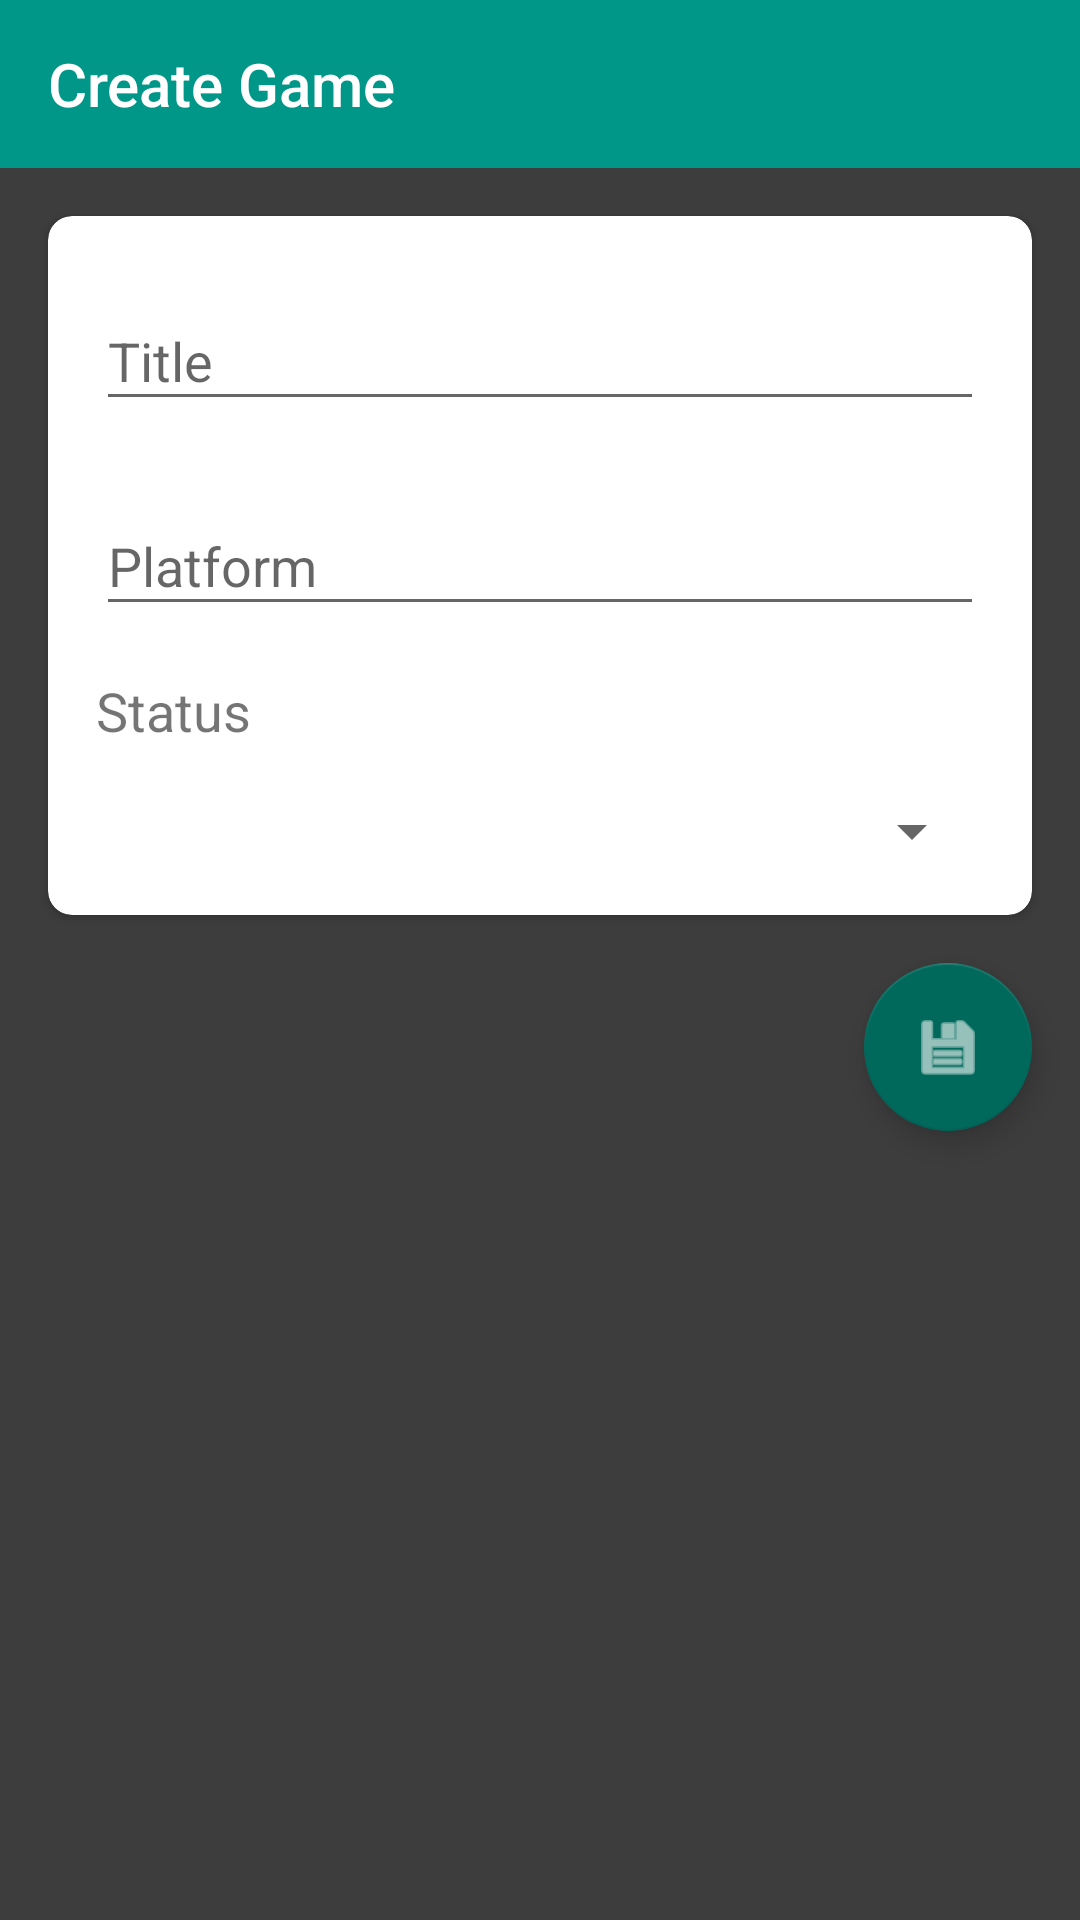

Named icons in this screenshot (1080w x 1920h) and their centers, point (x, y):
save: point (948, 1047)
